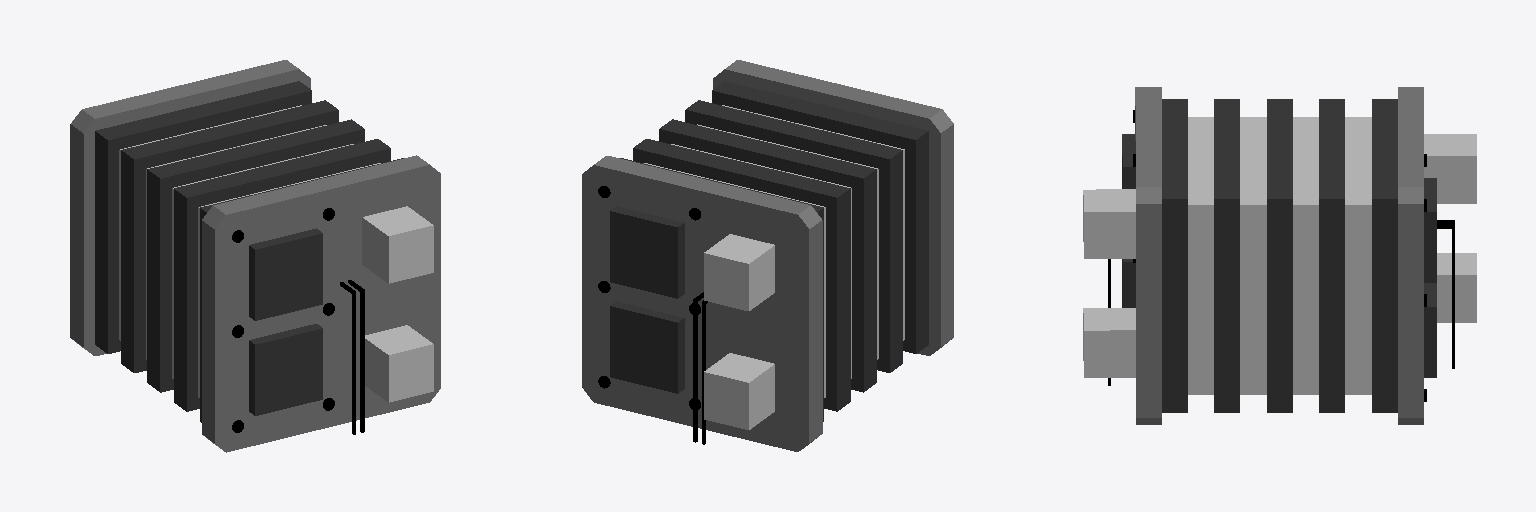
Rendered from FuelCell.obj.
3 renders of one model, left to right at view 1: azimuth 30°, elevation 25°; view 2: azimuth 150°, elevation 25°; view 3: azimuth 270°, elevation 25°, orthographic.
Visible parts, largest first — view 1: FuelCell; view 2: FuelCell; view 3: FuelCell.
Boxes of the visible parts, <box> form: FuelCell: <box>70,60,440,452</box>; FuelCell: <box>582,60,953,451</box>; FuelCell: <box>1083,87,1476,424</box>.
Bounding box in the file's own units: 5 × 5 × 7.49.